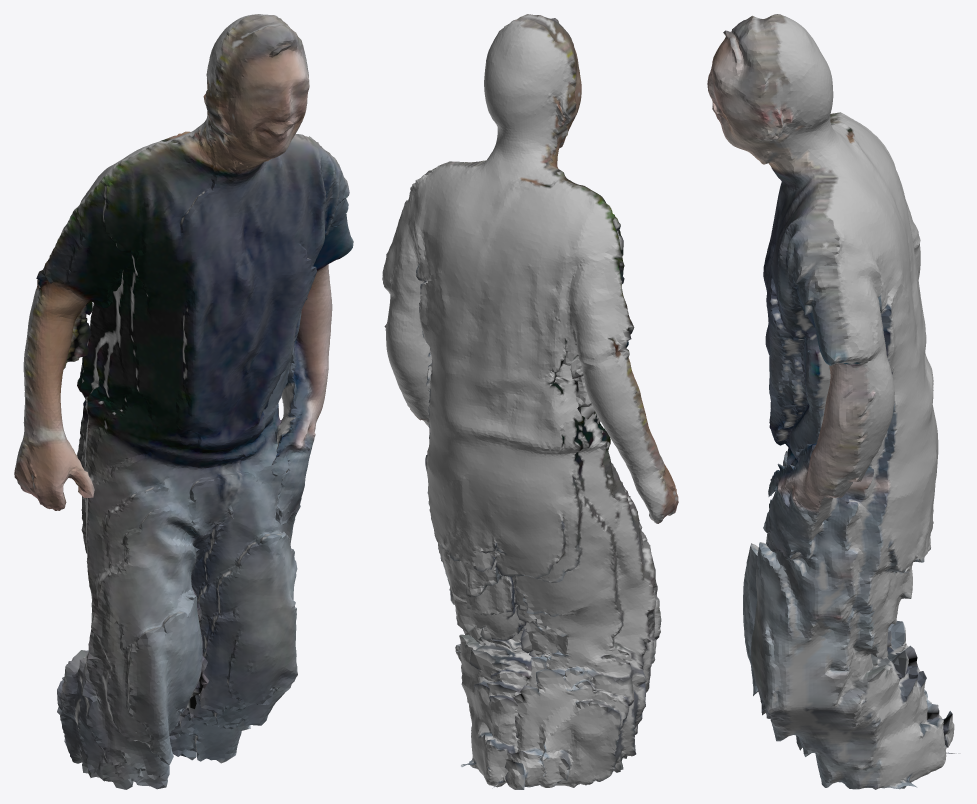
File: sample_2_textured.glb
3 renders of one model, left to right at view 1: azimuth 30°, elevation 25°; view 2: azimuth 150°, elevation 25°; view 3: azimuth 270°, elevation 25°, orthographic. The views are drawn at different scales.
Visible parts, largest first — view 1: sample_2_merged.obj; view 2: sample_2_merged.obj; view 3: sample_2_merged.obj.
Boxes of the visible parts, x1=… form: sample_2_merged.obj: x1=14, y1=14, x2=353, y2=789; sample_2_merged.obj: x1=382, y1=14, x2=678, y2=789; sample_2_merged.obj: x1=707, y1=14, x2=960, y2=789.
Size of the model in its own units: 0.8027 by 1.82 by 0.5467.
